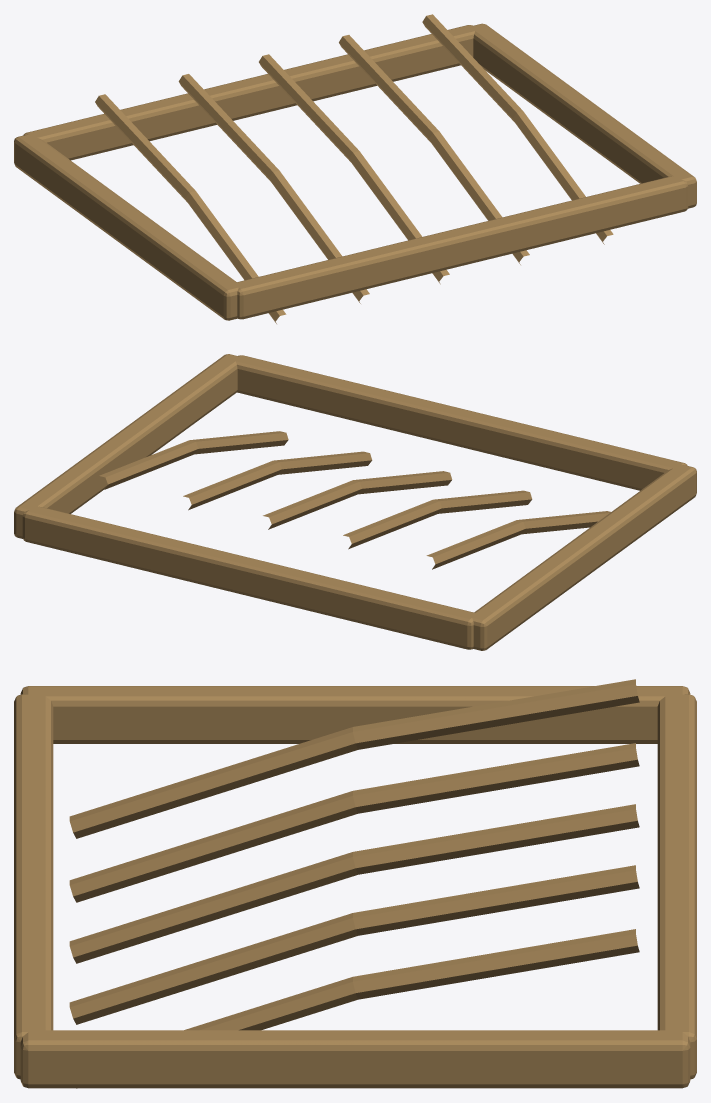
Rendered from collector-detail-v02.glb.
3 views of the same model, one above another, from view 1: azimuth 30°, elevation 25°; view 2: azimuth 150°, elevation 25°; view 3: azimuth 270°, elevation 25° (orthographic). The views are drawn at different scales.
Parts seen in each view (by area): view 1: Interior aged bronze 0; view 2: Interior aged bronze 0; view 3: Interior aged bronze 0.
Part boxes in pixels (x1,y1,x2,y2): Interior aged bronze 0: (14,14,696,323); Interior aged bronze 0: (14,354,696,650); Interior aged bronze 0: (14,679,696,1088).
Bounding box in the file's own units: 1.3 × 0.26 × 1.04.
